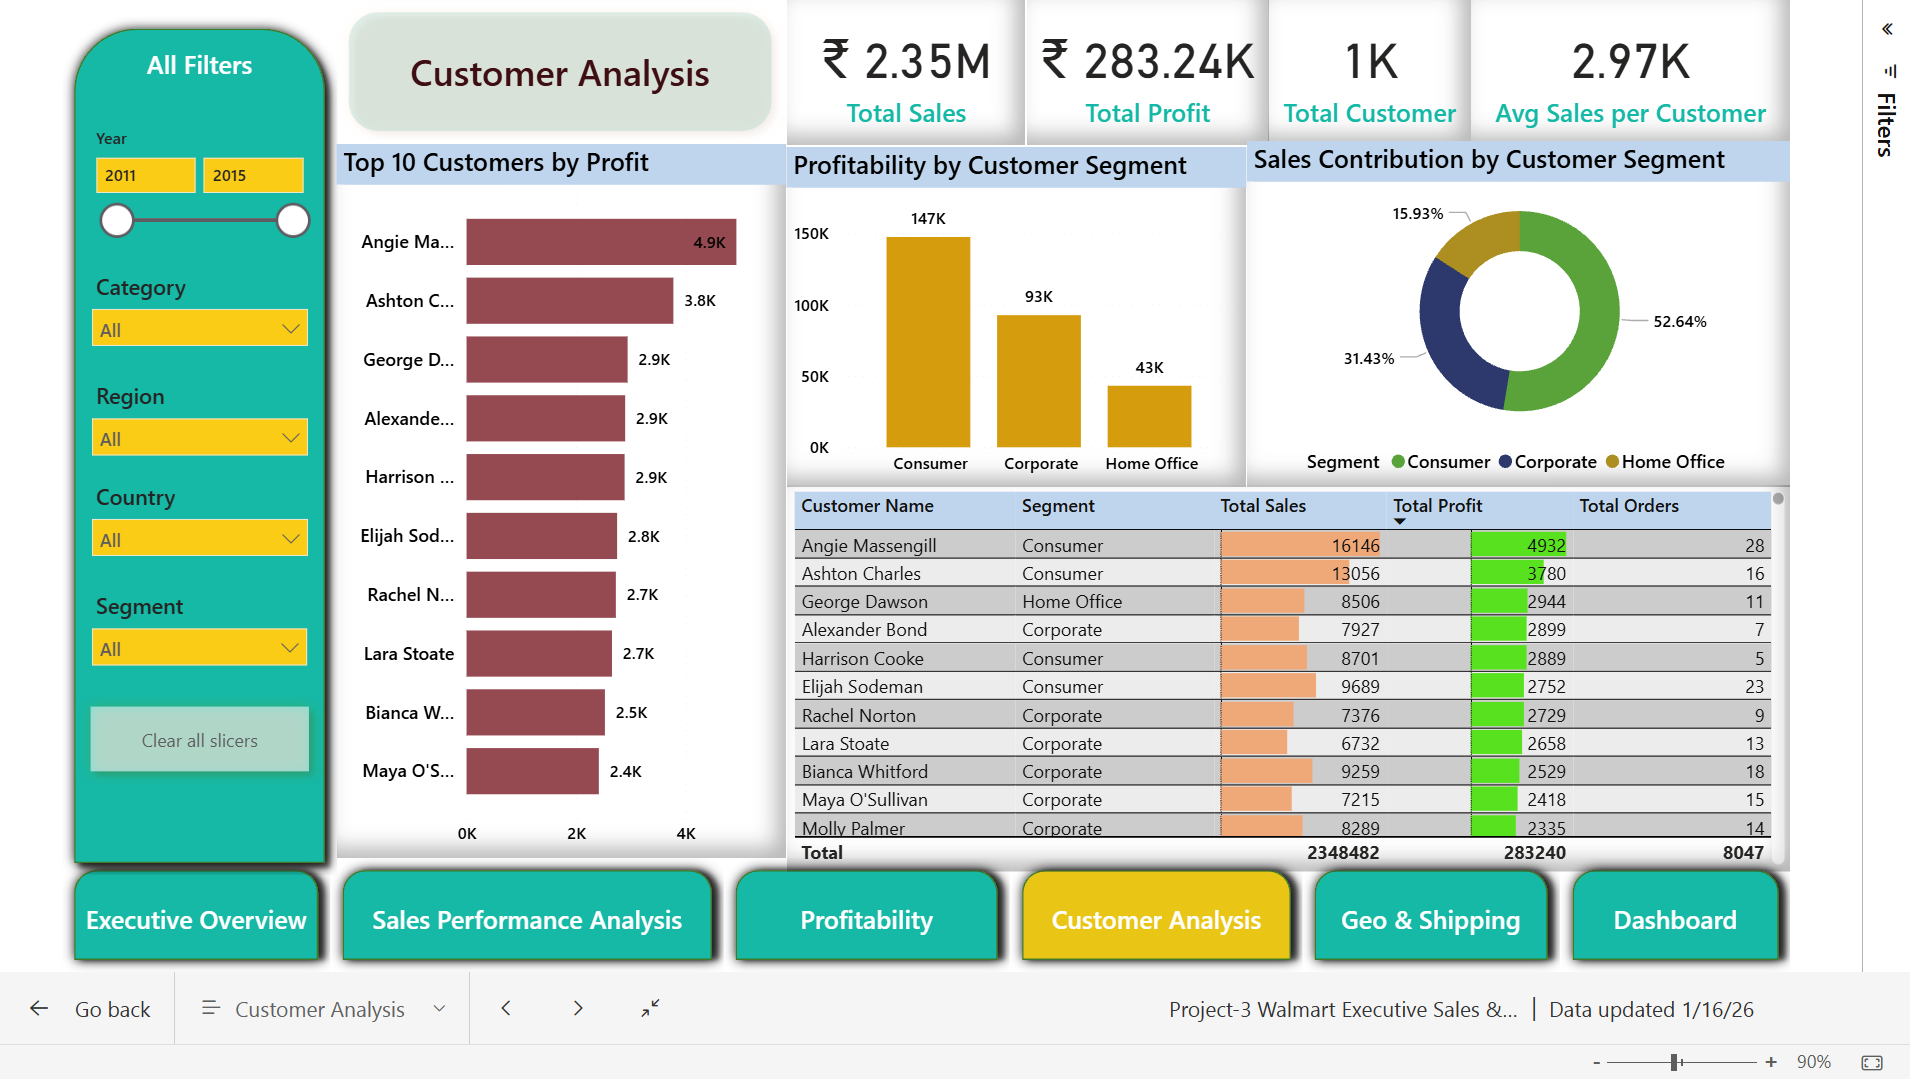

This screenshot's page, from the dashboard's own definition file:
{"tool":"powerbi","page":{"name":"Customer Analysis","canvas":[1280,720],"ordinal":3},"visuals":[{"type":"group","id":"g1","title":"Group 1","box":[0,12.3,203.7,637.9],"z":0,"group":"g2"},{"type":"shape","box":[0,12.3,203.7,636.1],"z":0,"group":"g1"},{"type":"shape","box":[0,636.1,198.8,84.5],"z":0},{"type":"slicer","fields":{"Values":["Dim_Date.Year"]},"box":[11.9,88.8,180,97.3],"z":1000,"group":"g1"},{"type":"slicer","fields":{"Values":["Dim_Customer.Segment"]},"box":[12.3,432.1,179,94.7],"z":1000,"group":"g2"},{"type":"shape","box":[198.8,636.1,291.5,84.5],"z":1000},{"type":"slicer","fields":{"Values":["Dim_Product.Category"]},"box":[12.3,195.8,179.7,89.2],"z":2000,"group":"g1"},{"type":"shape","box":[490.3,636.1,212,84.5],"z":2000},{"type":"slicer","fields":{"Values":["Dim_Customer.Region"]},"box":[12.3,276.6,179.7,85],"z":3000,"group":"g1"},{"type":"shape","box":[702.3,636.1,217,84.5],"z":3000},{"type":"slicer","fields":{"Values":["Dim_Customer.Country"]},"box":[12.3,350.9,179.7,87.1],"z":4000,"group":"g1"},{"type":"shape","box":[919.3,636.1,190.5,84.5],"z":4000},{"type":"actionButton","box":[12.3,514.6,179.7,65.9],"z":5000,"group":"g1"},{"type":"shape","box":[1109.8,636.1,170.6,84.5],"z":5000},{"type":"group","id":"g2","title":"Group 2","box":[0,12.3,203.7,637.9],"z":6000},{"type":"card","fields":{"Values":["Fact_Sales.Total Sales"]},"box":[537.1,0,177,107],"z":6001},{"type":"card","fields":{"Values":["Fact_Sales.Total Profit"]},"box":[714.1,0,179,107],"z":6002},{"type":"card","fields":{"Values":["Fact_Sales.Total Customers"]},"box":[893.1,0,150.2,107],"z":6003},{"type":"card","fields":{"Values":["Fact_Sales.Avg Sales per Customer"]},"box":[1043.3,0,236.7,107],"z":6004},{"type":"shape","box":[203.7,0,331.3,106],"z":6005},{"type":"donutChart","title":"Sales Contribution by Customer Segment","fields":{"Category":["Dim_Customer.Segment"],"Y":["Fact_Sales.Total Sales"]},"box":[877.3,104.9,403.4,256.1],"z":6008},{"type":"clusteredColumnChart","title":"Profitability by Customer Segment","fields":{"Category":["Dim_Customer.Segment"],"Y":["Fact_Sales.Total Profit"]},"box":[536.5,108.9,340.8,252.1],"z":6009},{"type":"clusteredBarChart","title":"Top 10 Customers by Profit","fields":{"Category":["Dim_Customer.Customer Name"],"Y":["Fact_Sales.Total Profit"]},"box":[203.7,106.9,332.8,528.4],"z":6010},{"type":"tableEx","title":"Customer Performance Summary","fields":{"Values":["Dim_Customer.Customer Name","Dim_Customer.Segment","Fact_Sales.Total Sales","Fact_Sales.Total Profit","Fact_Sales.Total Orders"]},"box":[536.5,359,744.2,286.4],"z":6011}]}

Visuals, with their boxes on the page's 1280x720 design canvas (x1, y1, x2, y2). These are canvas units, not pixel positions in the 1910x1079 screenshot, which may show the page scaled, cropped or inside an application window:
"Group 1" group: {"left": 0, "top": 12, "right": 204, "bottom": 650}
shape: {"left": 0, "top": 12, "right": 204, "bottom": 648}
shape: {"left": 0, "top": 636, "right": 199, "bottom": 721}
slicer - Dim_Date.Year: {"left": 12, "top": 89, "right": 192, "bottom": 186}
slicer - Dim_Customer.Segment: {"left": 12, "top": 432, "right": 191, "bottom": 527}
shape: {"left": 199, "top": 636, "right": 490, "bottom": 721}
slicer - Dim_Product.Category: {"left": 12, "top": 196, "right": 192, "bottom": 285}
shape: {"left": 490, "top": 636, "right": 702, "bottom": 721}
slicer - Dim_Customer.Region: {"left": 12, "top": 277, "right": 192, "bottom": 362}
shape: {"left": 702, "top": 636, "right": 919, "bottom": 721}
slicer - Dim_Customer.Country: {"left": 12, "top": 351, "right": 192, "bottom": 438}
shape: {"left": 919, "top": 636, "right": 1110, "bottom": 721}
actionButton: {"left": 12, "top": 515, "right": 192, "bottom": 580}
shape: {"left": 1110, "top": 636, "right": 1280, "bottom": 721}
"Group 2" group: {"left": 0, "top": 12, "right": 204, "bottom": 650}
card - Fact_Sales.Total Sales: {"left": 537, "top": 0, "right": 714, "bottom": 107}
card - Fact_Sales.Total Profit: {"left": 714, "top": 0, "right": 893, "bottom": 107}
card - Fact_Sales.Total Customers: {"left": 893, "top": 0, "right": 1043, "bottom": 107}
card - Fact_Sales.Avg Sales per Customer: {"left": 1043, "top": 0, "right": 1280, "bottom": 107}
shape: {"left": 204, "top": 0, "right": 535, "bottom": 106}
"Sales Contribution by Customer Segment" donutChart: {"left": 877, "top": 105, "right": 1281, "bottom": 361}
"Profitability by Customer Segment" clusteredColumnChart: {"left": 536, "top": 109, "right": 877, "bottom": 361}
"Top 10 Customers by Profit" clusteredBarChart: {"left": 204, "top": 107, "right": 536, "bottom": 635}
"Customer Performance Summary" tableEx: {"left": 536, "top": 359, "right": 1281, "bottom": 645}
